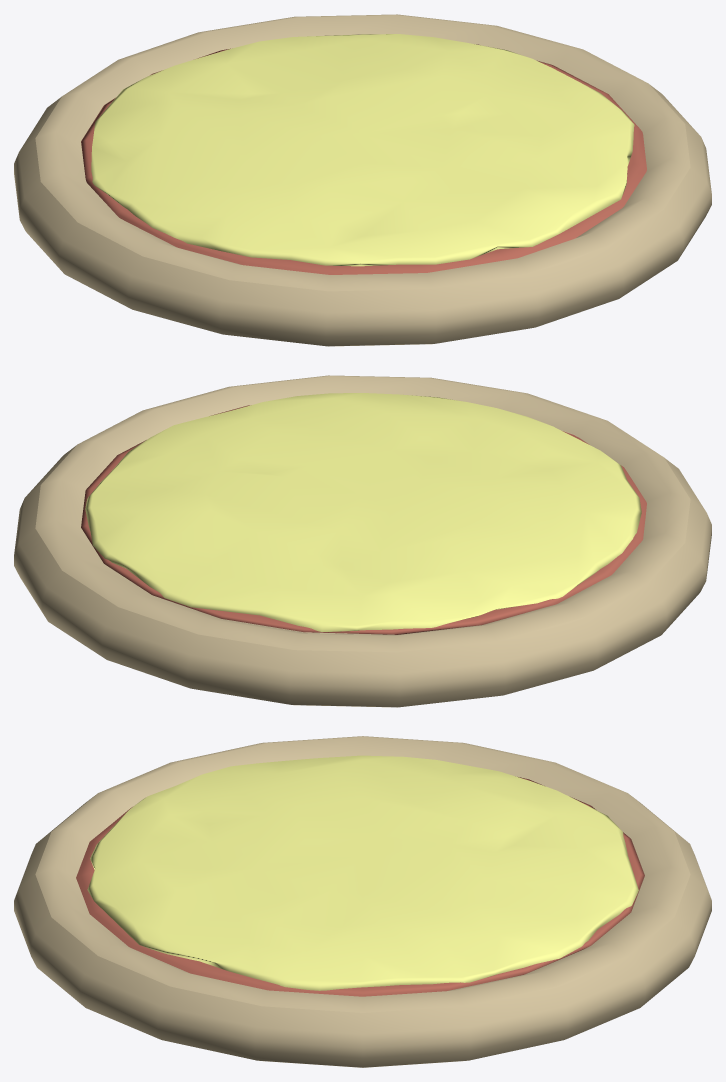
The model's file is custom_pizza_thick.gltf.
3 renders of one model, top to bottom at view 1: azimuth 30°, elevation 25°; view 2: azimuth 150°, elevation 25°; view 3: azimuth 270°, elevation 25°, orthographic.
Parts seen in each view (by area): view 1: pCylinder13, pCylinder1.thick; view 2: pCylinder13, pCylinder1.thick; view 3: pCylinder13, pCylinder1.thick.
Boxes of the visible parts, <box> form: pCylinder13: <box>91,34,634,266</box>; pCylinder1.thick: <box>14,14,711,346</box>; pCylinder13: <box>85,393,641,631</box>; pCylinder1.thick: <box>14,375,711,707</box>; pCylinder13: <box>87,755,638,990</box>; pCylinder1.thick: <box>14,736,711,1067</box>.
Bounding box in the file's own units: 0.1035 × 0.0123 × 0.1035.
